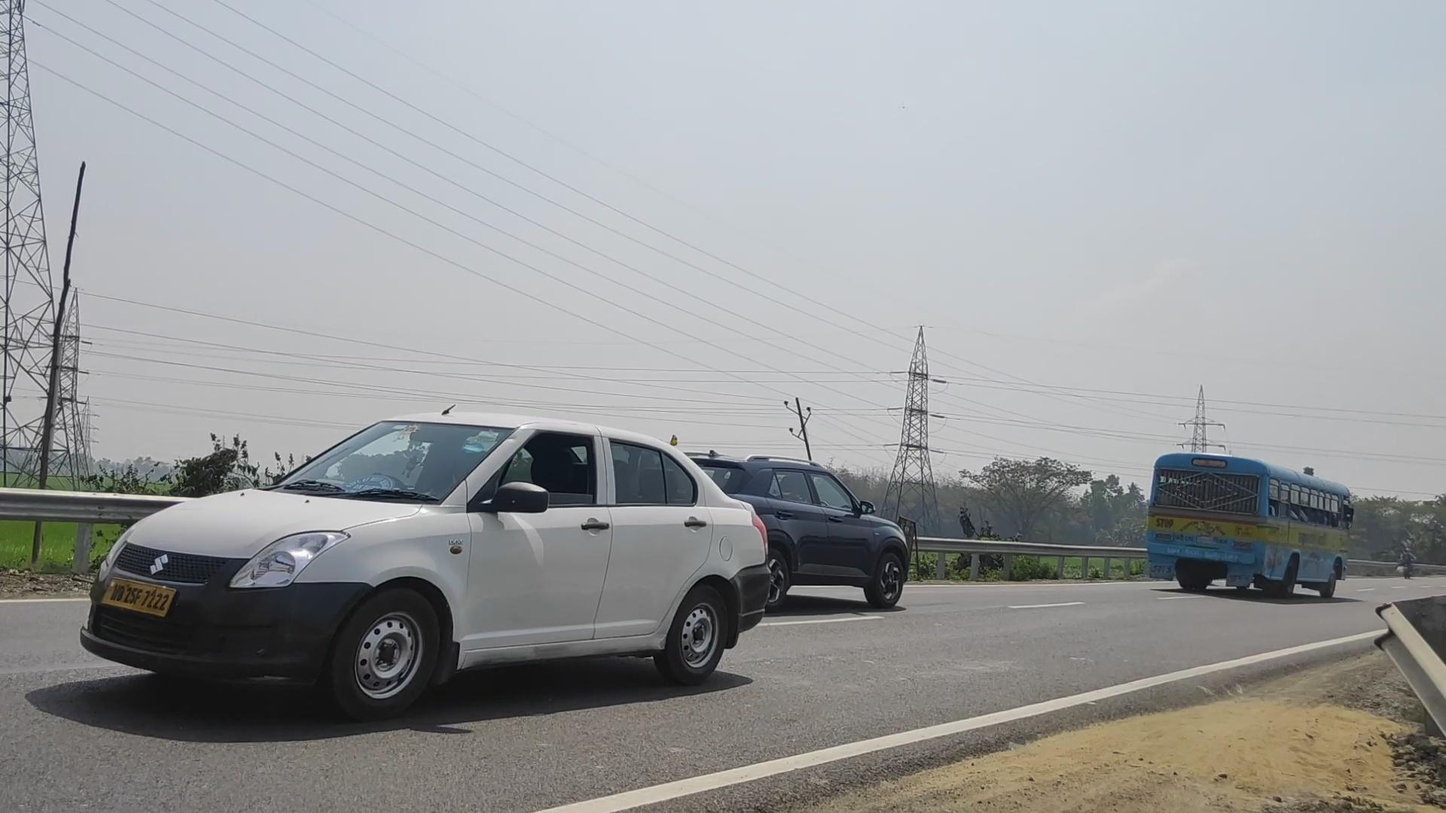Bus: (1146, 452, 1355, 601)
car: (81, 412, 770, 717), (690, 449, 910, 617)
